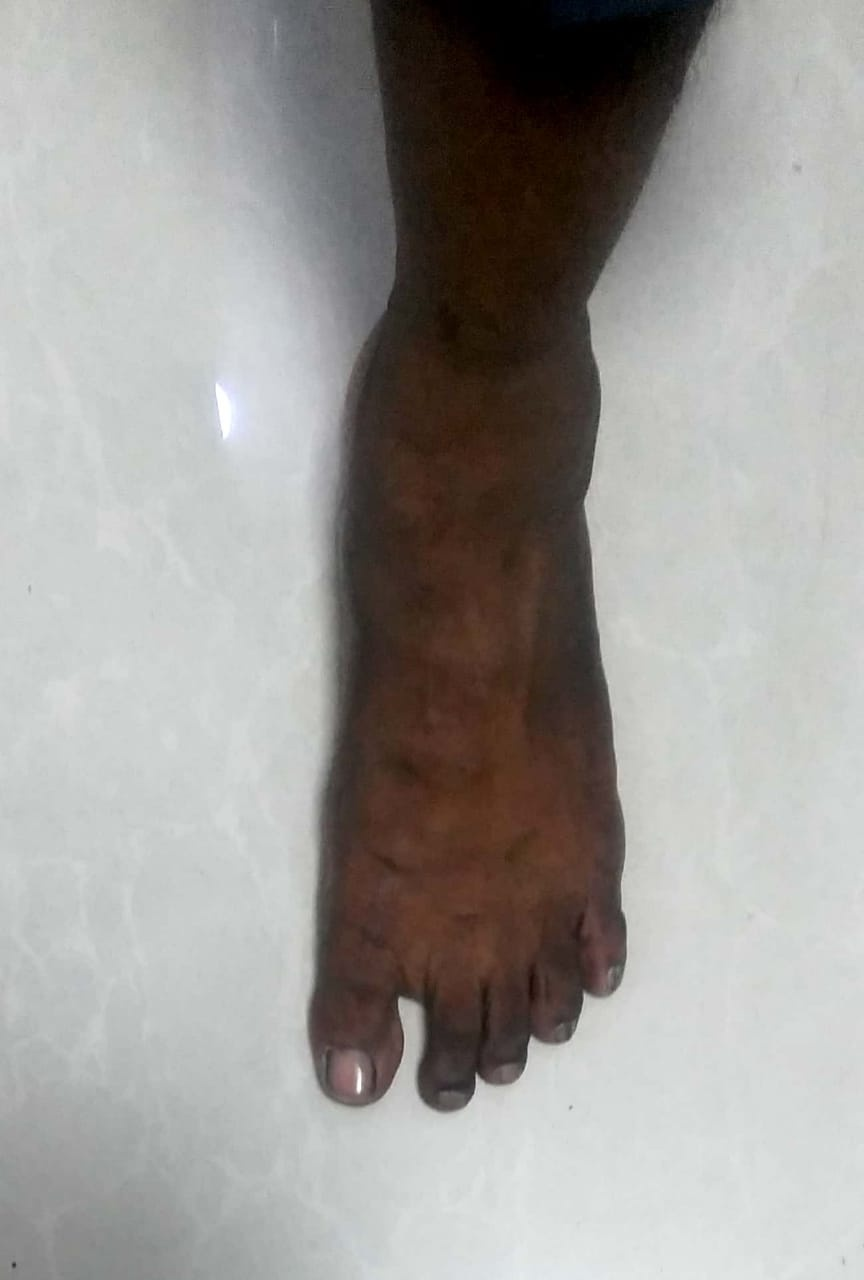feet: (216, 281, 646, 1126)
